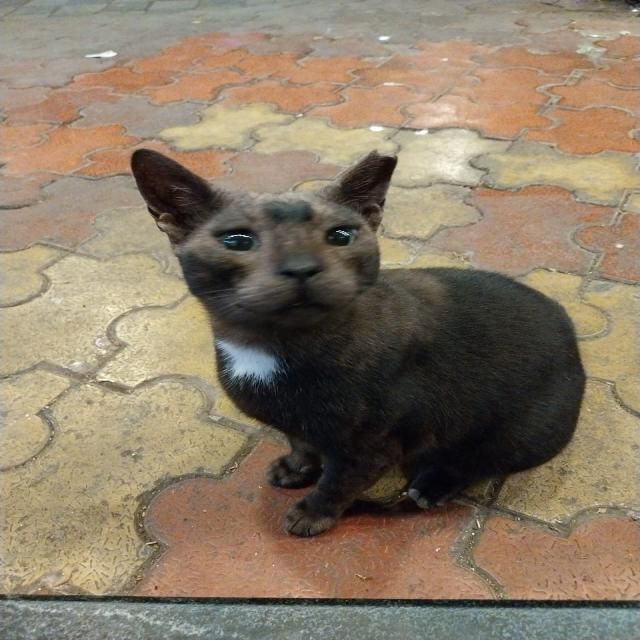Cat: (124, 129, 604, 536)
